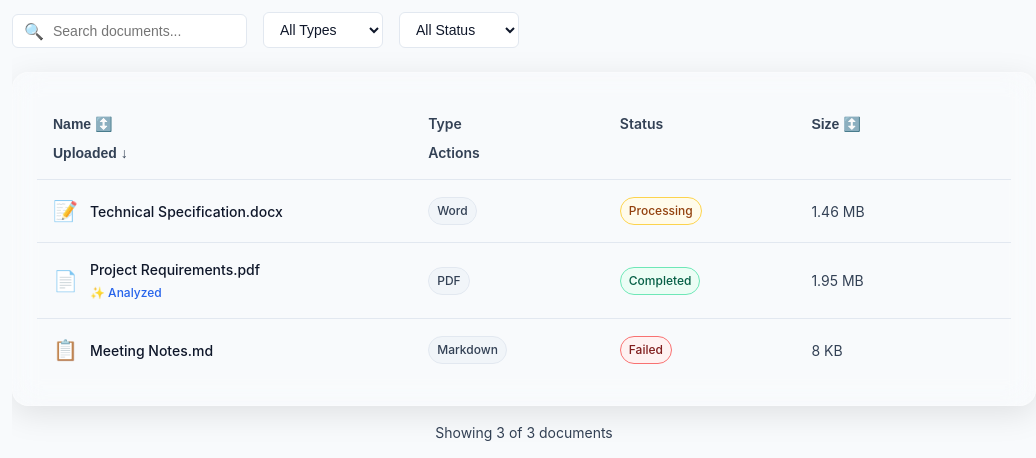
Scenario: DocumentList › handles search filtering correctly
Type "requirements" into the field with placeholder "Search documents..." at (130, 31), box [12,14,247,48]
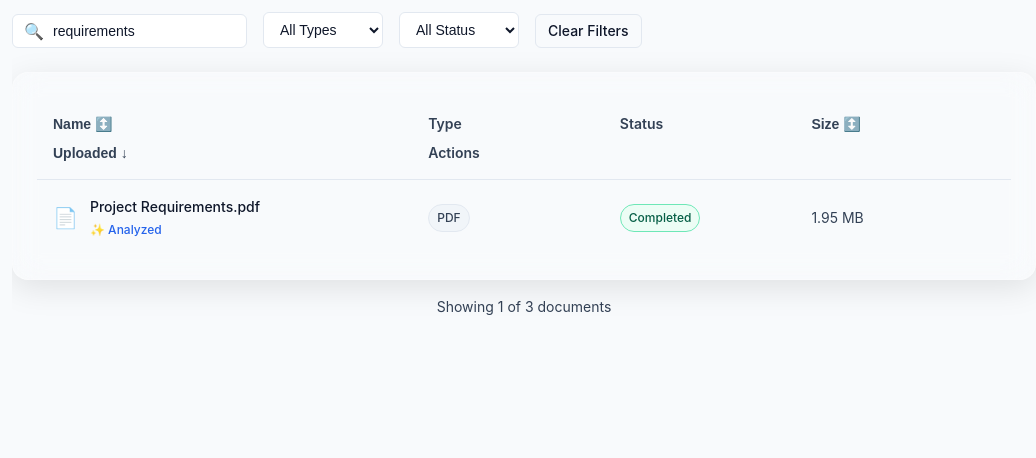
Result: the text "Technical Specification.docx" is gone
Result: the text "Meeting Notes.md" is gone
Result: the text "Showing 1 of 3 documents" is shown at [437,298,611,315]
